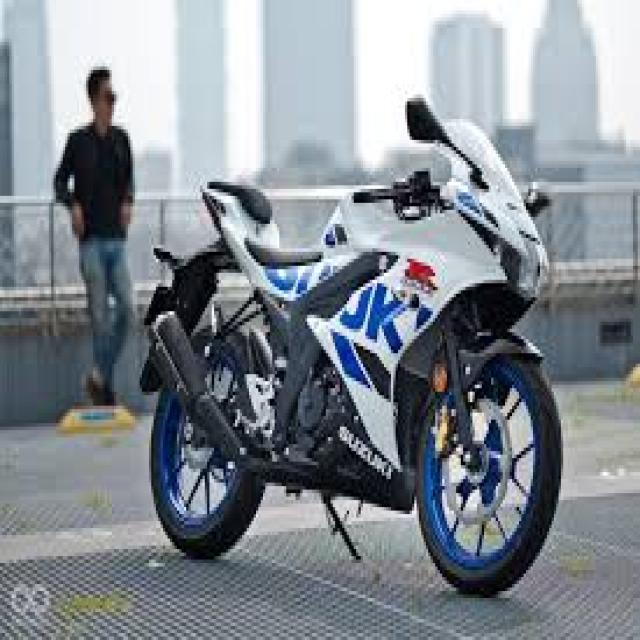Bike: (140, 98, 561, 595)
